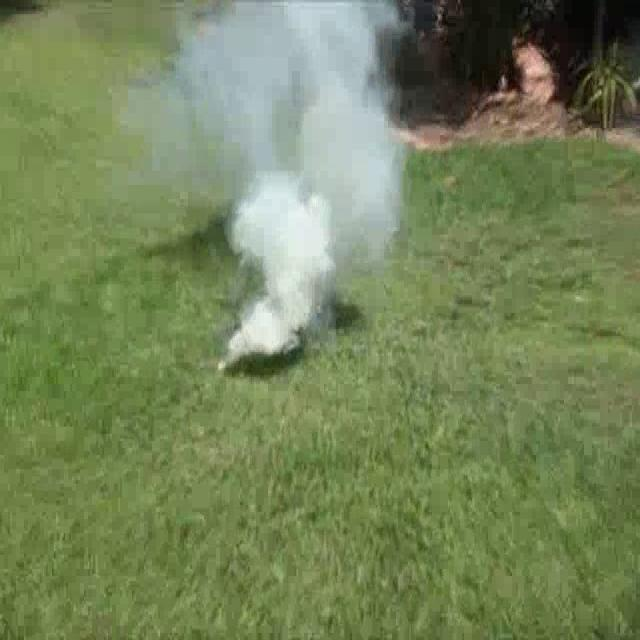Smoke: (102, 0, 418, 386)
